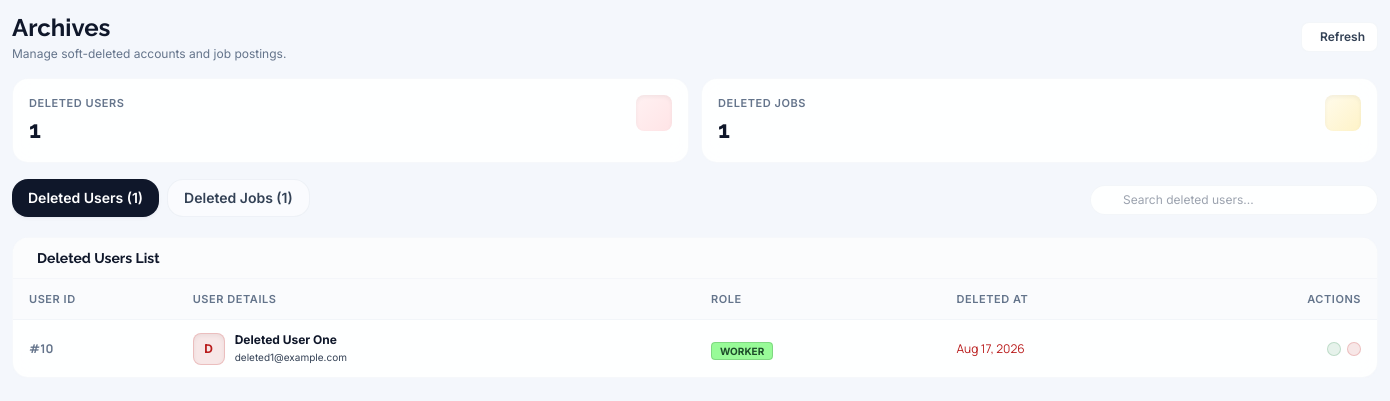
Test: ArchivesPage Component › fetches and displays deleted users and jobs on render
expect the text "Deleted User One" is shown: met, box x1=235 y1=332 x2=347 y2=348
// Click Deleted Jobs tab
What coordinates should you click on to do the following:
click the tab "Deleted Jobs (1)"
I would click on:
 (238, 198)
Its box is x1=167 y1=178 x2=310 y2=216.
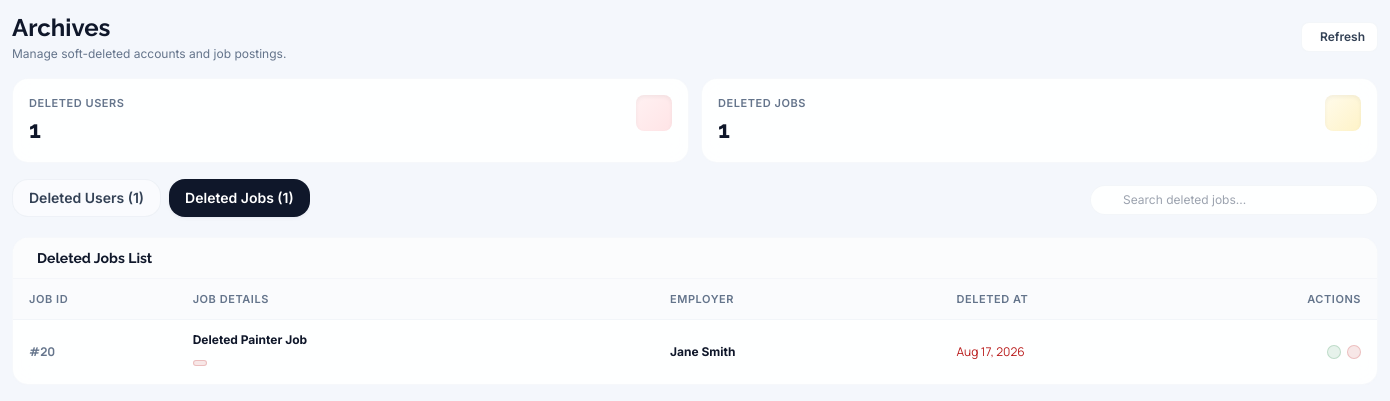
expect the text "Deleted Painter Job" is shown: met, box x1=193 y1=332 x2=307 y2=347
expect the text "Jane Smith" is shown: met, box x1=654 y1=320 x2=940 y2=384
